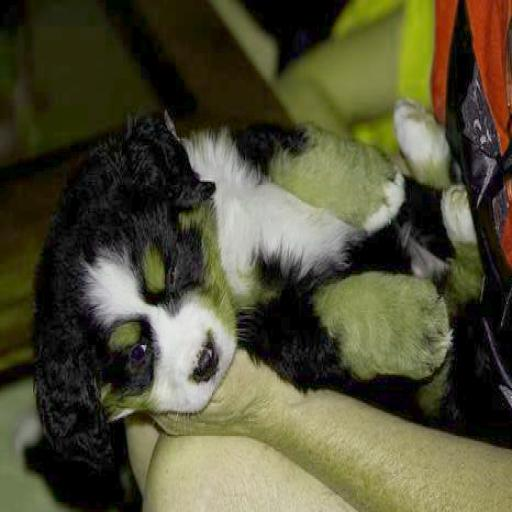dog_face: (34, 129, 233, 416)
